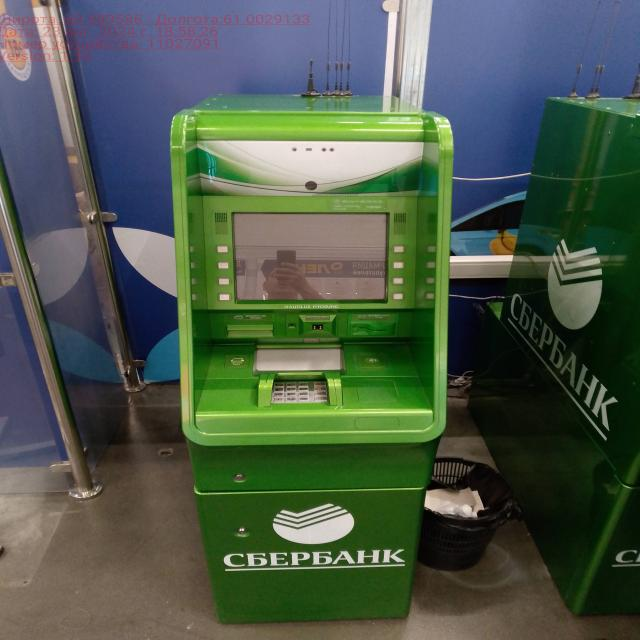bank: (174, 102, 450, 626), (488, 90, 640, 620)
